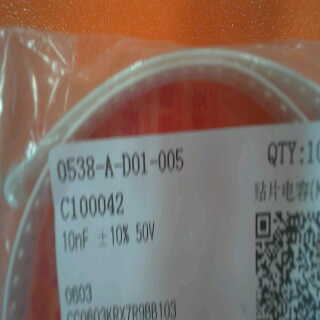10nF: (56, 223, 95, 254)
